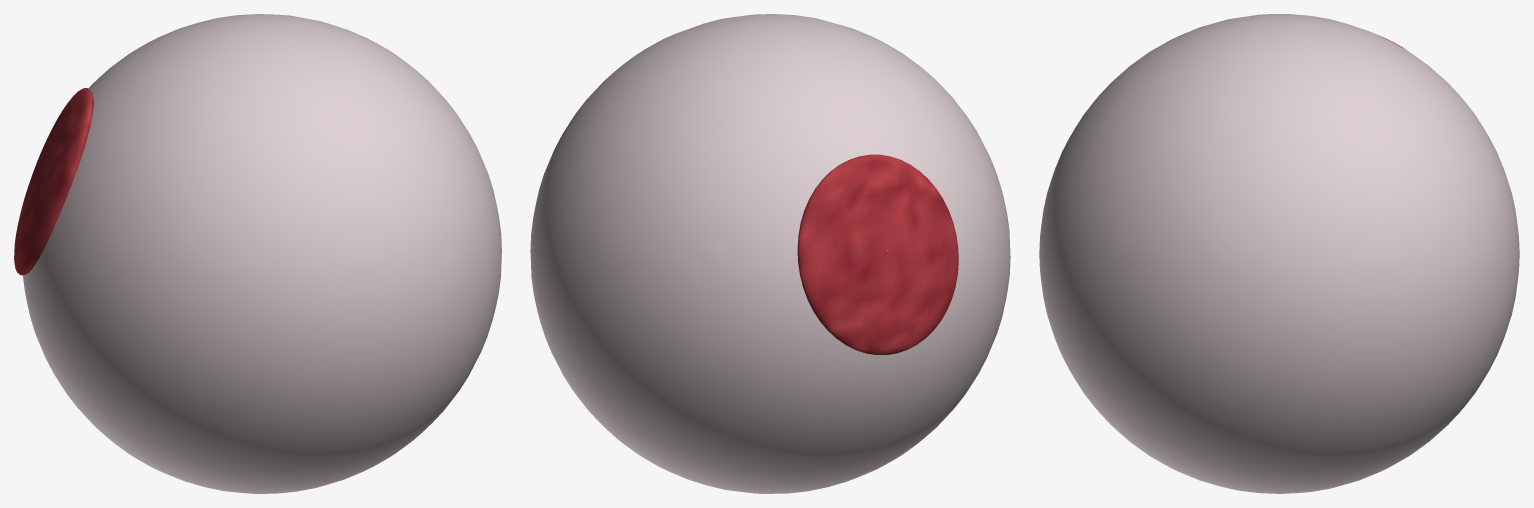
Rendered from hafta_37.glb.
The picture shows the model from 3 angles, left to right: view 1: azimuth 30°, elevation 25°; view 2: azimuth 150°, elevation 25°; view 3: azimuth 270°, elevation 25°; orthographic projection.
Visible parts, largest first — view 1: Amniyon_kesesi, Plasenta; view 2: Amniyon_kesesi, Plasenta; view 3: Amniyon_kesesi.
Boxes of the visible parts, bbox=[...] form: Amniyon_kesesi: bbox=[22, 14, 501, 493]; Plasenta: bbox=[14, 88, 93, 275]; Amniyon_kesesi: bbox=[530, 14, 1010, 493]; Plasenta: bbox=[797, 154, 958, 354]; Amniyon_kesesi: bbox=[1039, 14, 1519, 493].
Bounding box in the file's own units: 1.71 × 1.71 × 1.71.
